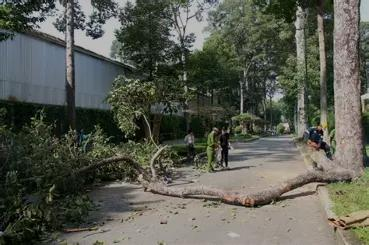ROAD_OBSTACLE: (5, 75, 355, 225)
